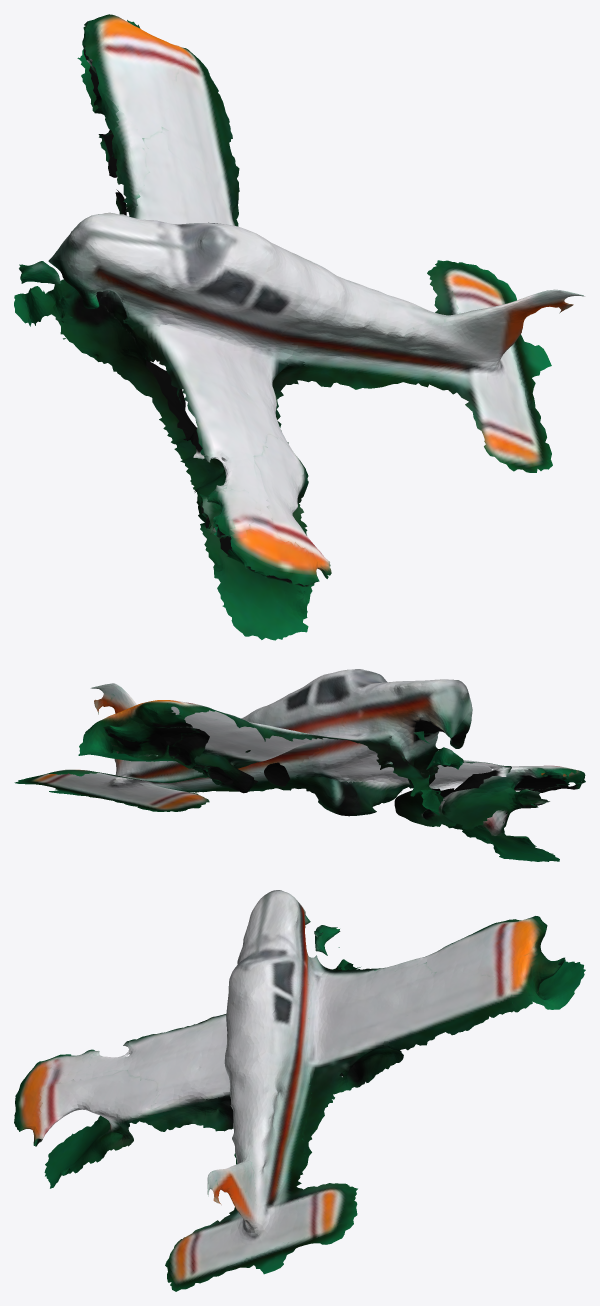
The model's file is RedOrangeAndGrayStripes_Airplane.obj.
3 renders of one model, top to bottom at view 1: azimuth 30°, elevation 25°; view 2: azimuth 150°, elevation 25°; view 3: azimuth 270°, elevation 25°, orthographic. The views are drawn at different scales.
Size of the model in its own units: 0.524 by 0.3731 by 0.6344.
1 material, 1 textured.
